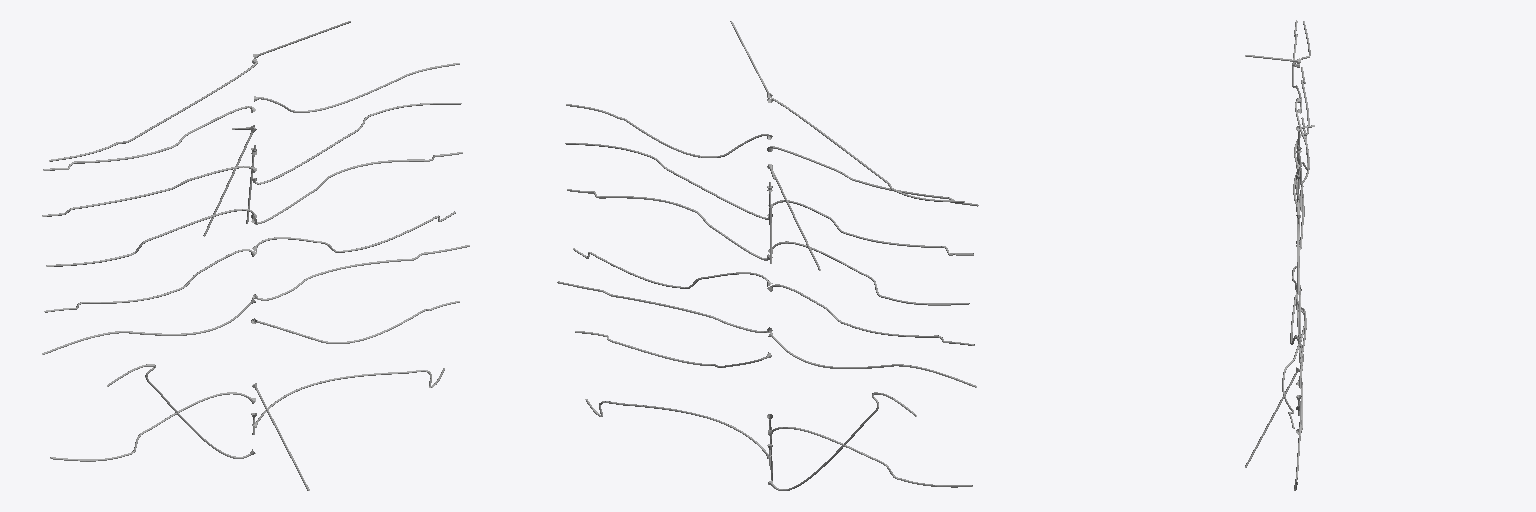
URDF robot description (ur5e):

        <robot name="ur5e" xmlns:xacro="http://ros.org/wiki/xacro">
            <link name="tree">
                <visual>
                    <geometry>
                        <mesh filename="meshes_and_urdf\meshes\trees\envy\train_labelled_split\tree_131_BRANCH.obj" scale="1 1 1"/>
                    </geometry>
                    <material name="LightGrey">
                        <color rgba="0.7 0.7 0.7 0.0"/>
                    </material>
                </visual>
                <collision concave="true">
                    <geometry>
                        <mesh filename="meshes_and_urdf\meshes\trees\envy\train_labelled_split\tree_131_BRANCH.obj" scale="1 1 1"/>
                    </geometry>
                </collision>
                <inertial>
                    <mass value="4.0"/>
                    <origin rpy="0 0 0" xyz="0.0 0.0 0.0"/>
                    <inertia ixx="0.00443333156" ixy="0.0" ixz="0.0" iyy="0.00443333156" iyz="0.0" izz="0.0072"/>
                </inertial>
            </link>
            <link name="world"/>
            <joint name="tree_joint" type="fixed">
                <parent link="world"/>
                <child link="tree"/>
                <origin rpy="0.0 0.0 0.0" xyz="0.0 0.0 0.0"/>
            </joint>
        </robot>
        

--- What the picture shows (computed from the rendered views, not written in the file) ---
The picture shows the robot from 3 angles, left to right: view 1: azimuth 30°, elevation 25°; view 2: azimuth 150°, elevation 25°; view 3: azimuth 270°, elevation 25°; orthographic projection.
Model ur5e with 2 links and 1 joints (1 fixed), rooted at world, posed every joint at zero.
Links seen in each view (by area): view 1: tree; view 2: tree; view 3: tree.
Boxes of the visible links, x1,y1,x2,y2 form: tree: [42, 21, 469, 490]; tree: [557, 21, 978, 490]; tree: [1245, 20, 1314, 490].
Size in the robot's own frame: 4.27 by 0.6527 by 4.39 metres.
1 mesh visuals loaded from 1 distinct referenced files (1 OBJ).
